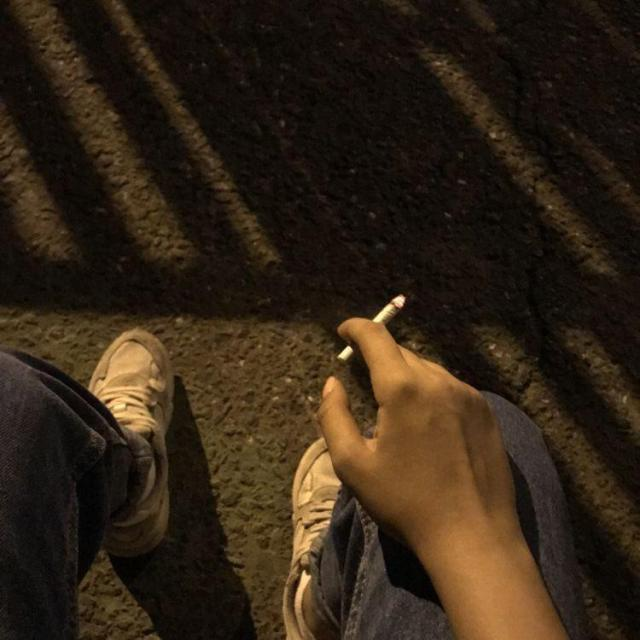rokok: (335, 292, 419, 360)
